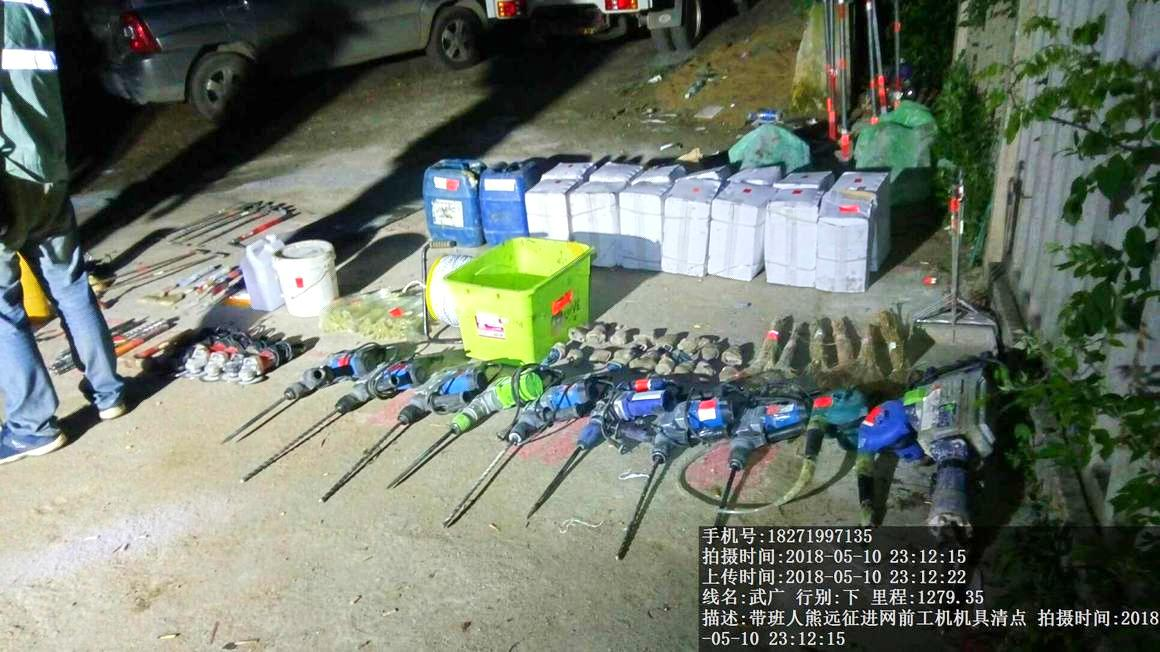DZ: (717, 394, 806, 500), (632, 397, 735, 475), (284, 337, 379, 398), (334, 352, 419, 418), (572, 384, 657, 450), (456, 367, 541, 427), (405, 360, 475, 422)
T: (448, 226, 594, 362)
